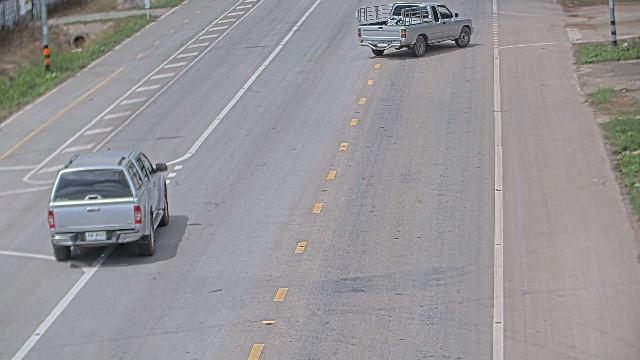pickup-truck: (47, 182, 169, 263), (355, 1, 474, 57)
